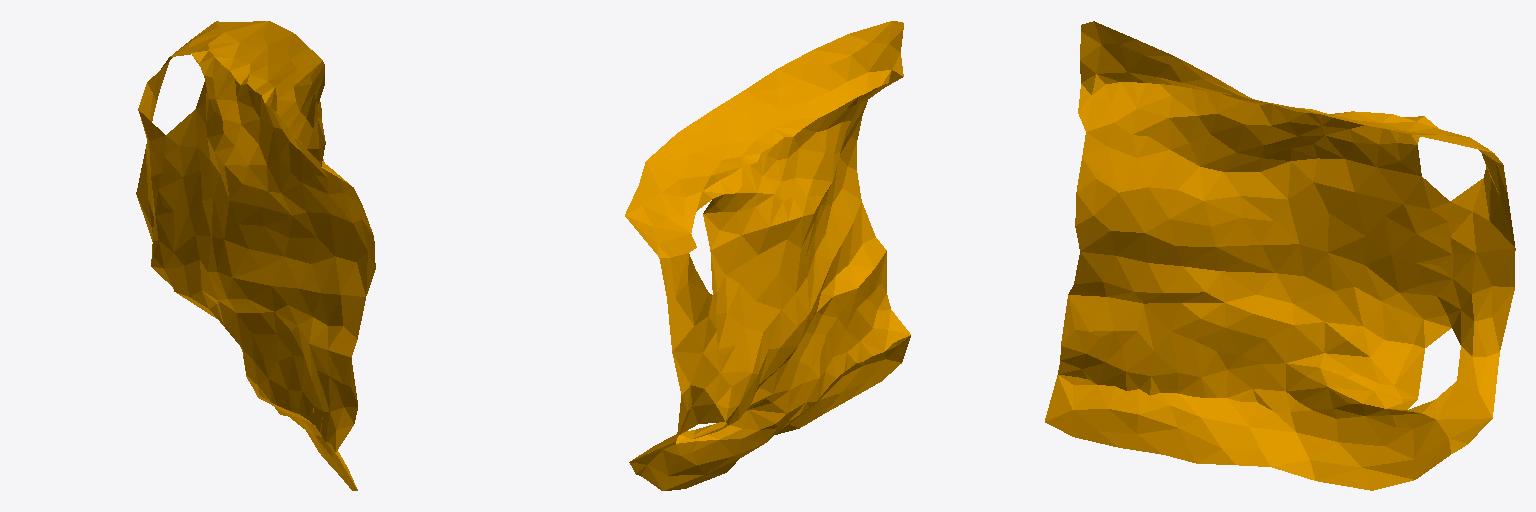
The robot description file, URDF, robot "init":
<?xml version='1.0' encoding='utf-8'?>
<robot name="init">
<link name="link_0"><inertial><mass value="1.0" /><origin rpy="0 0 0" xyz="0.000000 0.000000 0.000000" /><inertia ixx="1.0" ixy="0.0" ixz="0.0" iyy="1.0" iyz="0.0" izz="1.0" /></inertial><visual><origin rpy="0 0 0" xyz="0.000000 0.000000 0.000000" /><geometry><mesh filename="./clothHuman/cloth/2427.obj" /></geometry></visual><collision><origin rpy="0 0 0" xyz="0.000000 0.000000 0.000000" /><geometry><mesh filename="./clothHuman/cloth/2427.obj" /></geometry></collision></link></robot>

--- Facts derived from the render (not from the file) ---
3 views of the same robot in one strip: view 1: azimuth 30°, elevation 25°; view 2: azimuth 150°, elevation 25°; view 3: azimuth 270°, elevation 25° (orthographic).
Model init with 1 links and 0 joints (none), rooted at link_0, posed all joints at 0.
Visible links, largest first — view 1: link_0; view 2: link_0; view 3: link_0.
Link boxes in pixels (x1,y1,x2,y2): link_0: (136, 21, 375, 490); link_0: (625, 21, 910, 490); link_0: (1045, 21, 1515, 490).
Bounding box of the posed robot: 1.13 × 4.1 × 4.1 m (x, y, z).
Meshes: 1 distinct files referenced, 1 mesh visuals loaded (1 OBJ).